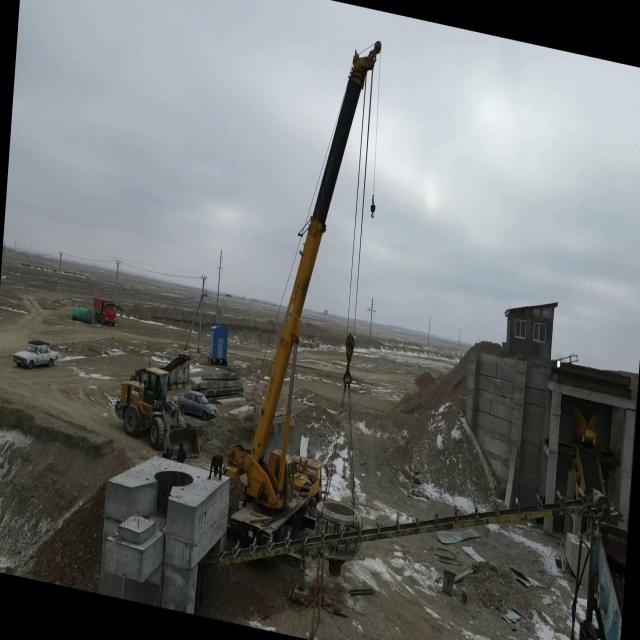crane: (210, 8, 389, 616)
